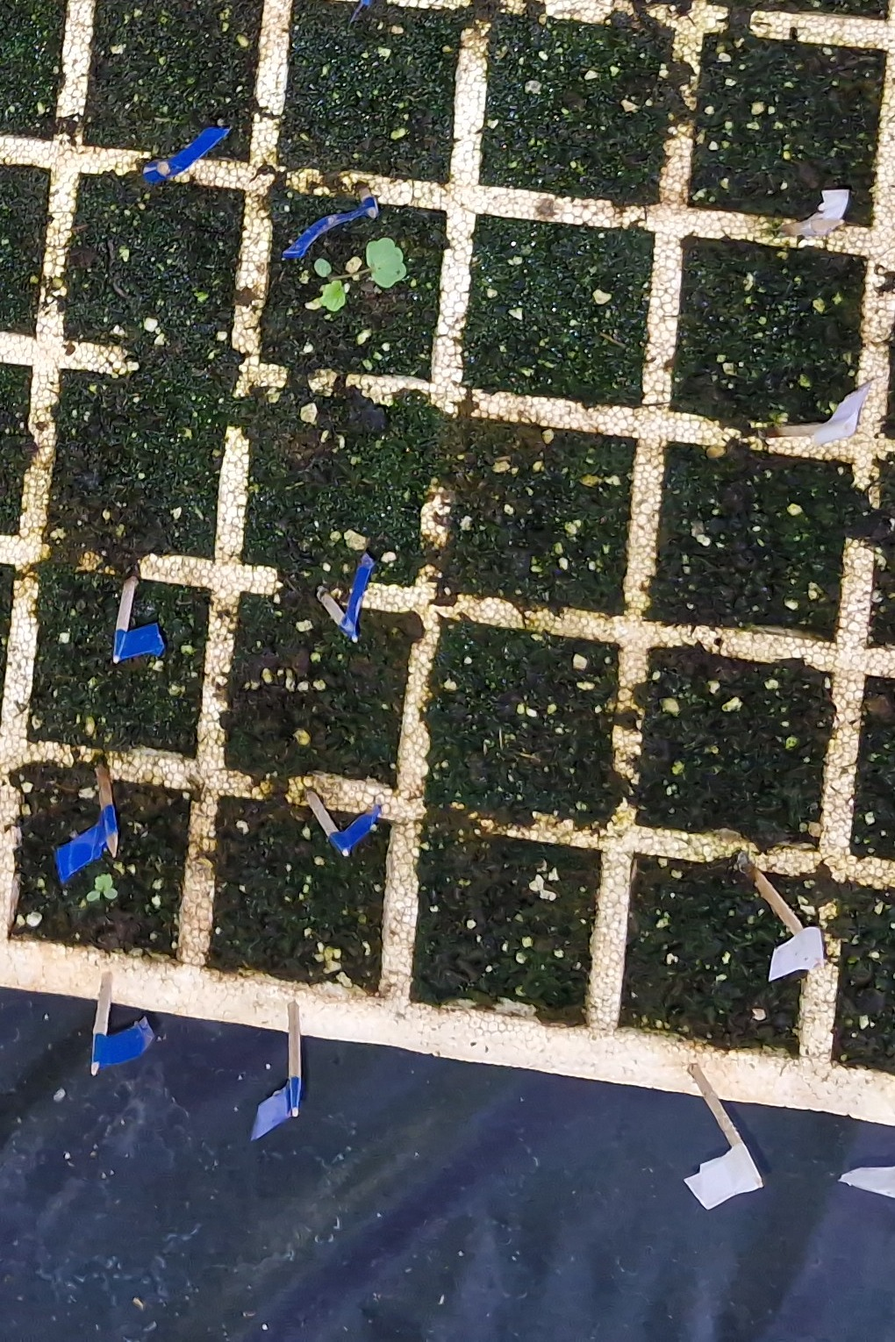Folha: (367, 237, 407, 289), (319, 282, 345, 312), (94, 874, 112, 891), (315, 258, 331, 276), (104, 888, 118, 899), (87, 890, 100, 901)
Germinacao: (314, 237, 406, 311), (87, 873, 118, 902)
